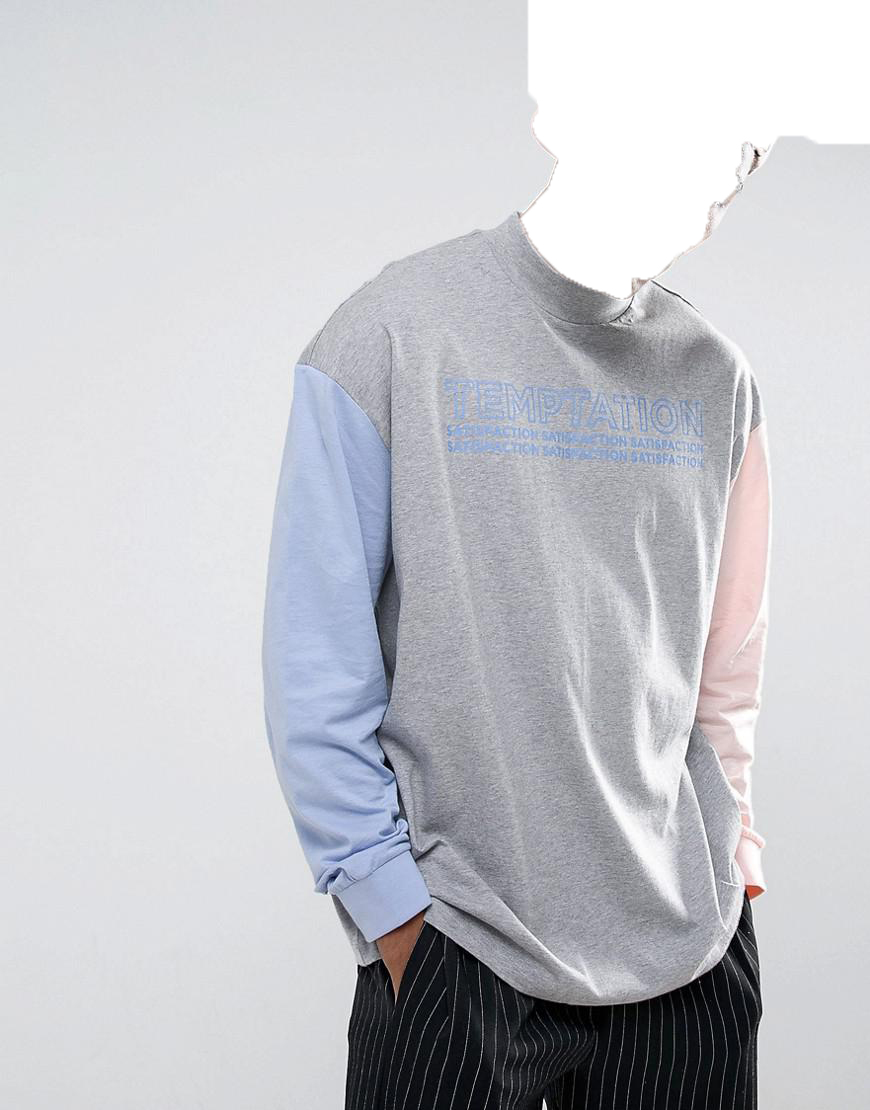teeshirt: (256, 212, 791, 1010)
